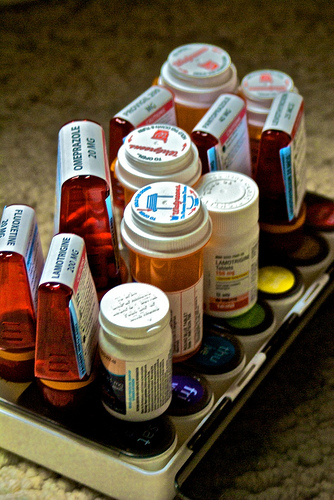pill bottle: (122, 182, 213, 358)
